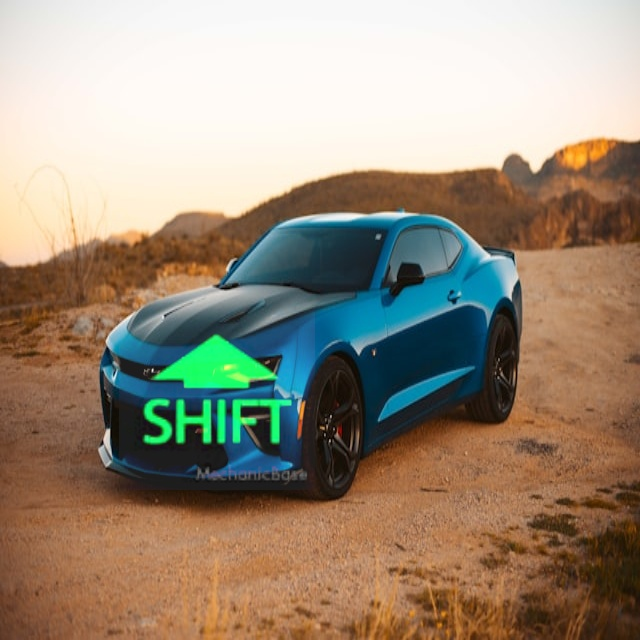symbol: (119, 294, 315, 490), (30, 73, 160, 203)
